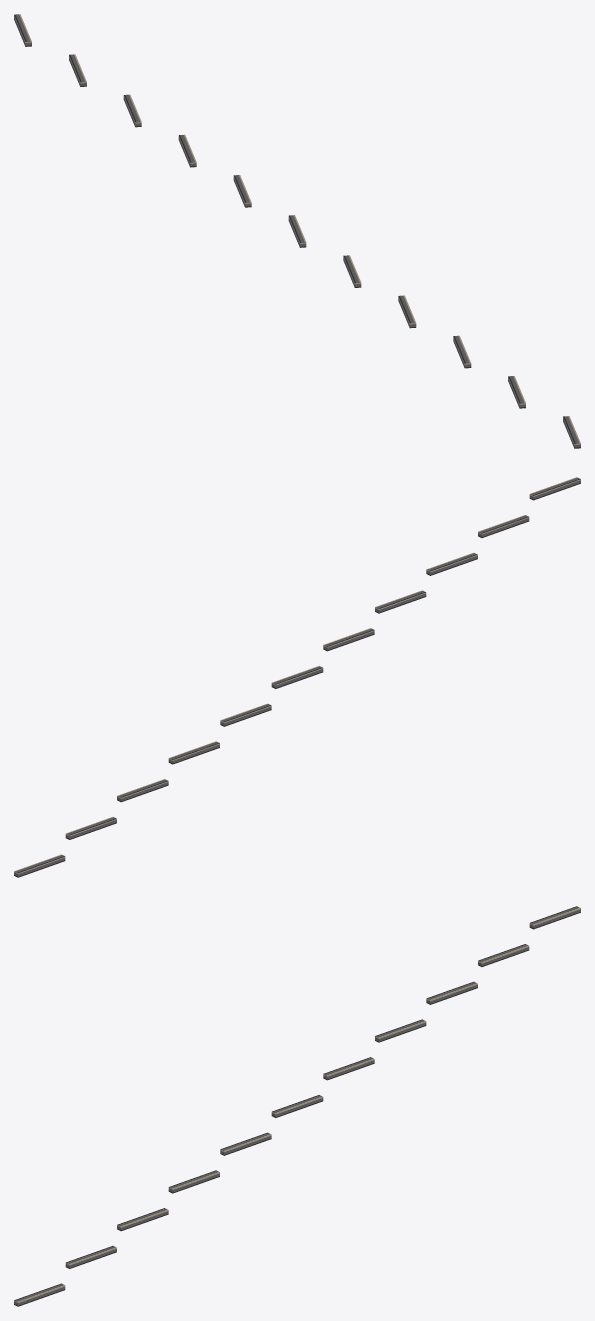
The model's file is lot_wheel_stops.glb.
3 views of the same model, one above another, from view 1: azimuth 30°, elevation 25°; view 2: azimuth 150°, elevation 25°; view 3: azimuth 330°, elevation 25° (orthographic). The views are drawn at different scales.
Visible parts, largest first — view 1: lot_wheel_stops; view 2: lot_wheel_stops; view 3: lot_wheel_stops.
Boxes of the visible parts, <box> form: lot_wheel_stops: <box>14,14,580,448</box>; lot_wheel_stops: <box>14,477,580,877</box>; lot_wheel_stops: <box>14,906,580,1306</box>.
Size of the model in its own units: 0.6976 by 0.13 by 28.16.
Materials: 1 (1 with a texture image).
